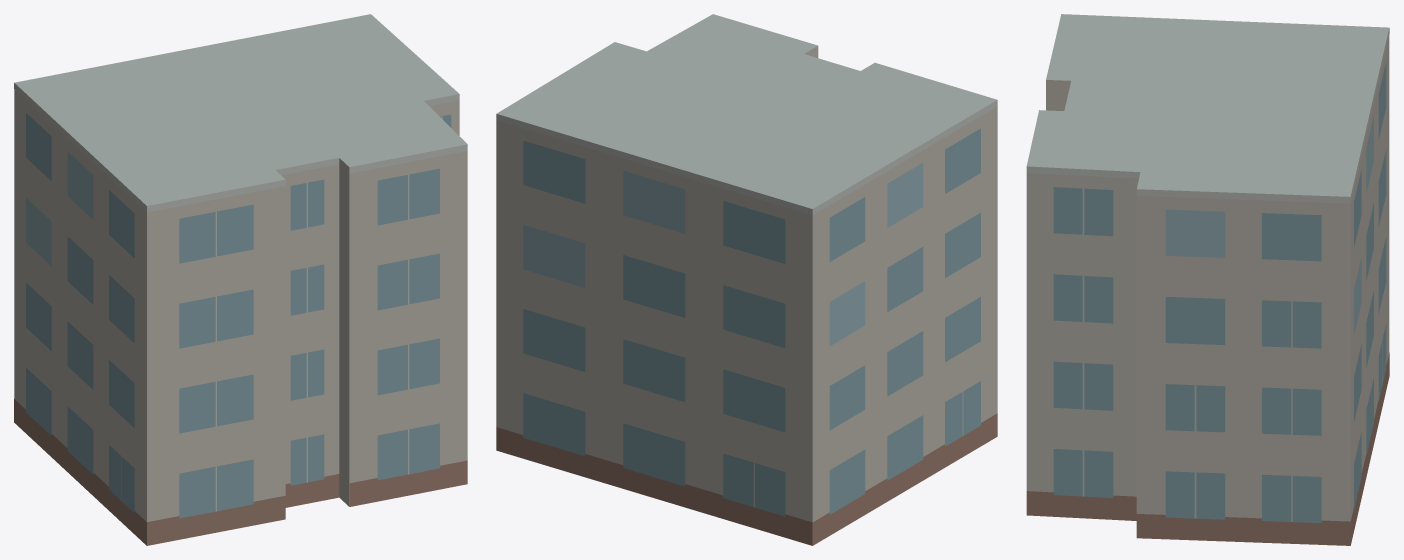
The model's file is survey-upis-32614968.glb.
The picture shows the model from 3 angles, left to right: view 1: azimuth 30°, elevation 25°; view 2: azimuth 150°, elevation 25°; view 3: azimuth 270°, elevation 25°; orthographic projection. The views are drawn at different scales.
Parts seen in each view (by area): view 1: survey-upis-32614968.tmp; view 2: survey-upis-32614968.tmp; view 3: survey-upis-32614968.tmp.
Part boxes in pixels (x1,y1,x2,y2): survey-upis-32614968.tmp: (14,14,467,545); survey-upis-32614968.tmp: (496,14,997,545); survey-upis-32614968.tmp: (1026,14,1389,545).
Bounding box in the file's own units: 14.5 × 12.9 × 12.16.
